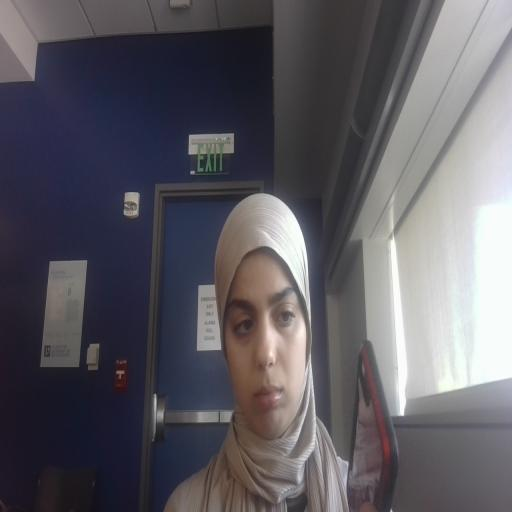phone: (345, 310, 436, 512)
